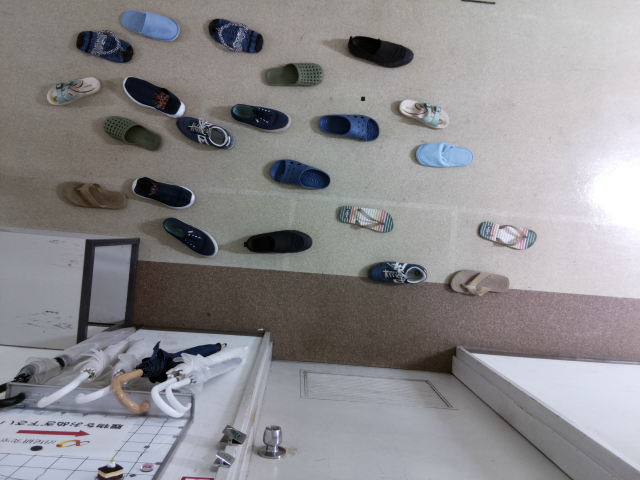Copy of Copy of Copy of Copy of Copy of Copy of Copy of Copy of Copy of Copy of: (94, 109, 173, 158), (112, 71, 190, 119), (166, 105, 244, 153), (66, 21, 141, 65), (307, 107, 386, 148), (251, 55, 330, 96), (110, 4, 185, 47), (36, 70, 111, 113), (199, 12, 269, 57), (339, 30, 417, 70), (385, 94, 464, 133), (225, 97, 298, 136)
Copy of Copy of Copy of Copy of Copy of Copy of Copy of Copy of Copy of shoe: (402, 136, 481, 175)
Copy of Copy of Copy of Copy of Copy of Copy of Copy of Copy of shoe: (468, 217, 547, 256)
Copy of Copy of Copy of Copy of Copy of Copy of Copy of shoe: (438, 263, 517, 302)
Copy of Copy of Copy of Copy of Copy of Copy of shoe: (354, 253, 433, 292)
Copy of Copy of Copy of Copy of Copy of shoe: (326, 200, 405, 239)
Copy of Copy of Copy of Copy of Copy of umbrella: (1, 314, 146, 410)
Copy of Copy of Copy of Copy of shoe: (257, 155, 344, 194)
Copy of Copy of Copy of Copy of umbrella: (31, 315, 152, 411)
Copy of Copy of Copy of shoe: (234, 221, 322, 260)
Copy of Copy of Copy of umbrella: (69, 320, 164, 413)
Copy of Copy of shoe: (156, 209, 223, 262)
Copy of Copy of umbrella: (104, 335, 227, 422)
Copy of shoe: (127, 167, 201, 210)
Copy of umbrella: (165, 346, 253, 431)
shoe: (58, 174, 133, 217)
umbrella: (149, 333, 253, 427)
